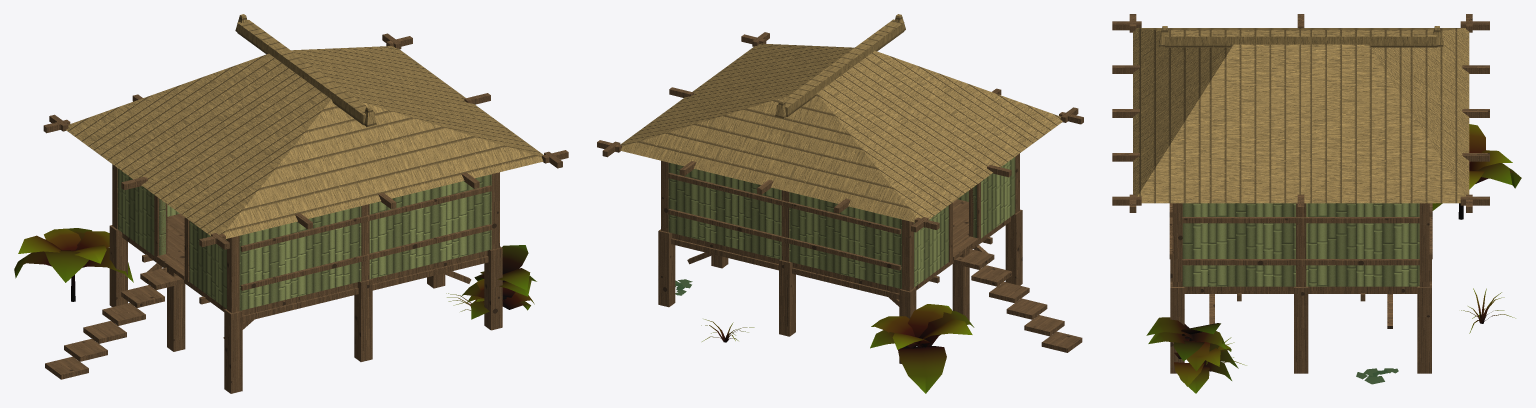
The model's file is nha_san_01.glb.
3 renders of one model, left to right at view 1: azimuth 30°, elevation 25°; view 2: azimuth 150°, elevation 25°; view 3: azimuth 270°, elevation 25°, orthographic. The views are drawn at different scales.
Parts seen in each view (by area): view 1: nha_san_01, nha_san_01_veg_01_banana_a, nha_san_01_veg_00_bush_b; view 2: nha_san_01, nha_san_01_veg_01_banana_a; view 3: nha_san_01, nha_san_01_veg_00_bush_b, nha_san_01_veg_01_banana_a, nha_san_01_veg_04_moss_a.
Boxes of the visible parts, <box> form: nha_san_01: <box>43,14,568,393</box>; nha_san_01_veg_01_banana_a: <box>14,228,133,301</box>; nha_san_01_veg_00_bush_b: <box>461,245,536,319</box>; nha_san_01: <box>597,14,1083,363</box>; nha_san_01_veg_01_banana_a: <box>870,304,974,393</box>; nha_san_01: <box>1112,14,1489,373</box>; nha_san_01_veg_00_bush_b: <box>1146,317,1238,393</box>; nha_san_01_veg_01_banana_a: <box>1432,124,1521,219</box>; nha_san_01_veg_04_moss_a: <box>1356,368,1398,384</box>.
Bounding box in the file's own units: 9.74 × 5.5 × 7.34.
7 materials, 7 textured.
